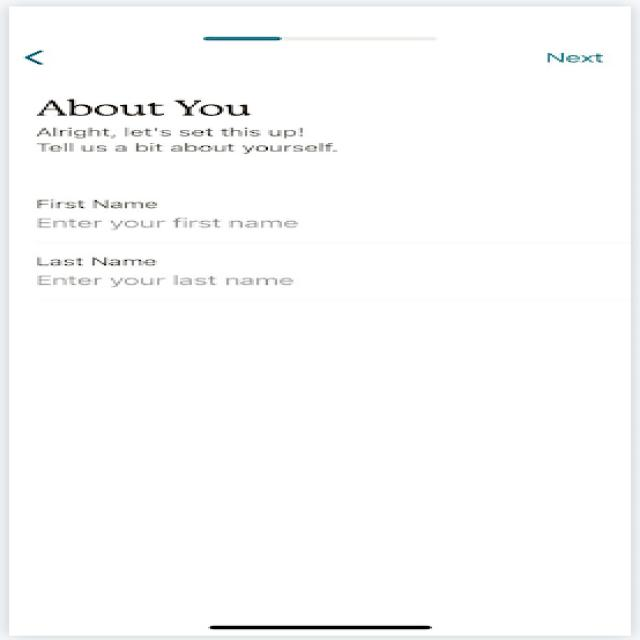icon button: (26, 41, 88, 73)
input: (18, 183, 615, 249), (15, 250, 618, 314)
text: (26, 87, 484, 161), (535, 45, 625, 68)
